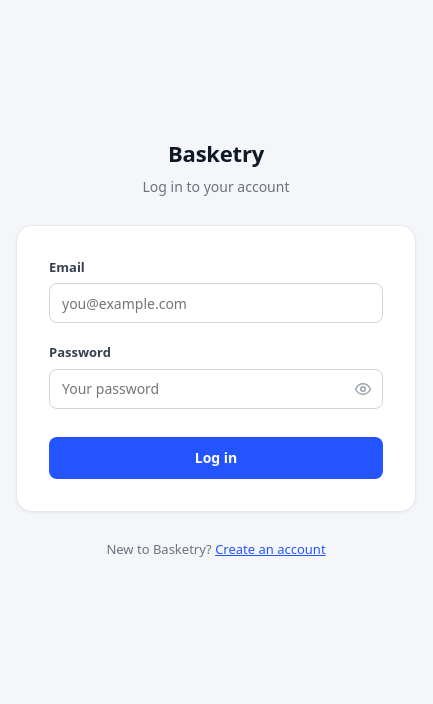
Test case: Register › shows the server problem detail on a conflict
Click the button "Create an account". click: (270, 550)
box: [215,540,326,559]
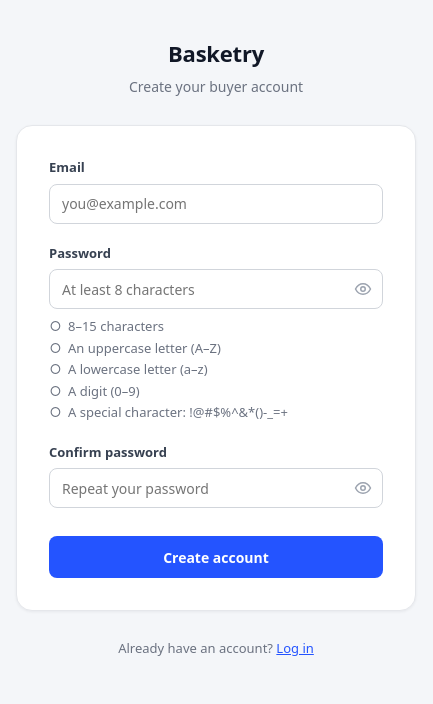
Type "taken@example.com" into the field labelled "Email". click: (216, 204)
box: [49,184,383,224]
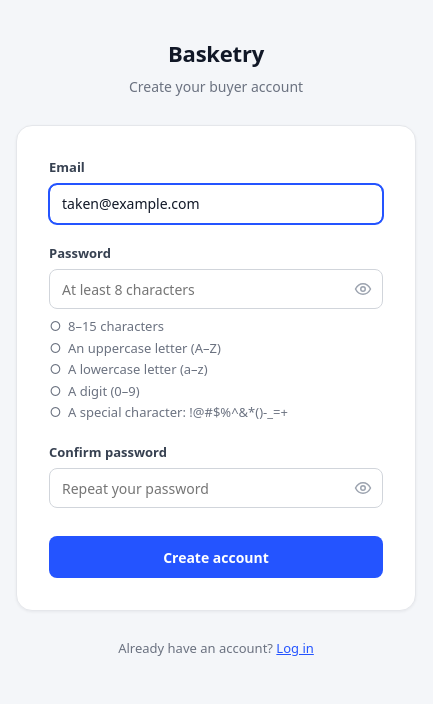
Type "Corr3ct-Horse!" into the password field labelled "Password". click: (216, 289)
box: [49,269,383,309]
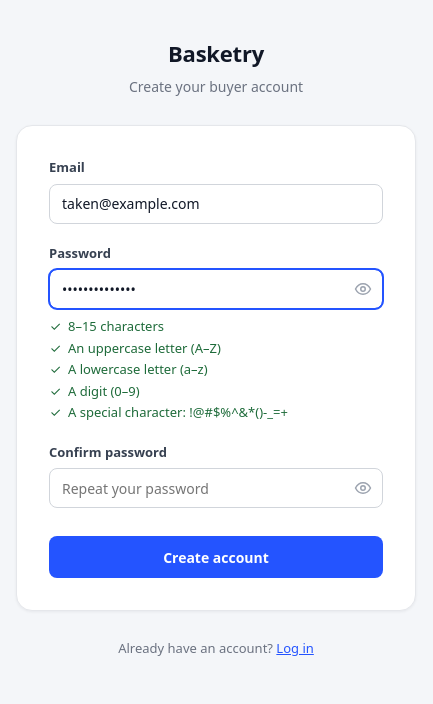
Type "Corr3ct-Horse!" into the password field labelled "Confirm password". click: (216, 488)
box: [49,468,383,508]
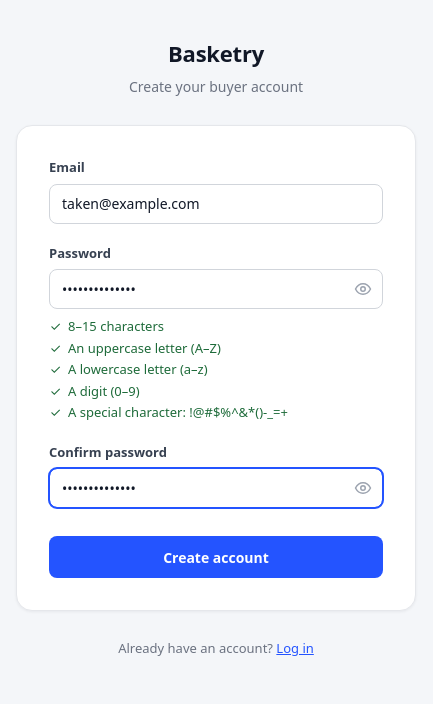
Click the button "Create account". click: (216, 557)
box: [49,536,383,578]
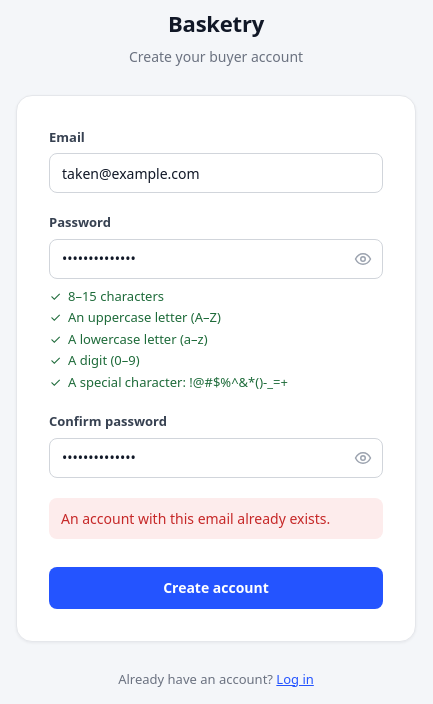
Result: the heading "Create your buyer account" is shown at [129,46,303,67]
Result: the message reads "An account with this email already exists." at [61,509,330,528]
